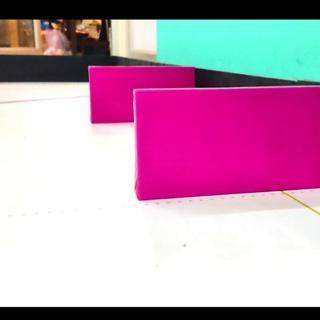xparking: (138, 90, 319, 202), (91, 68, 133, 122)
